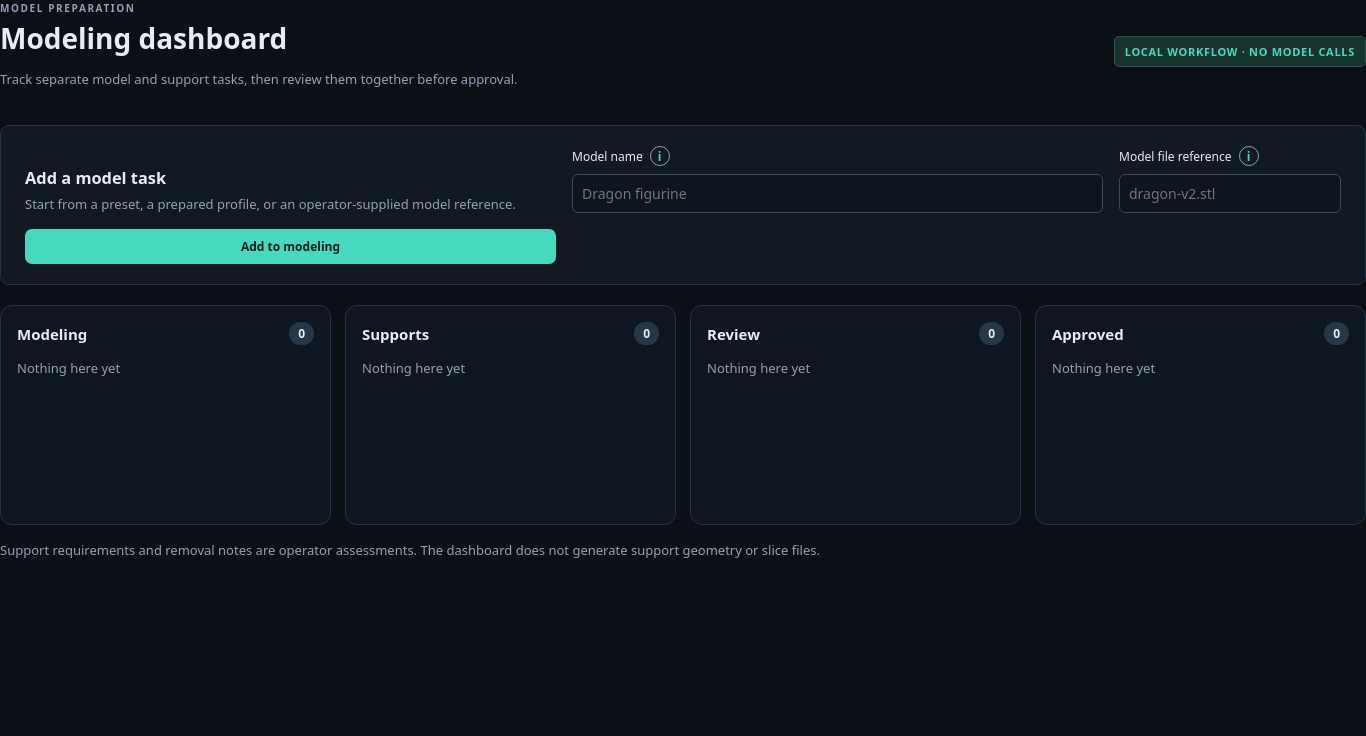
sends an explicit no-support assessment directly to review before approval
In the field labelled "Model name": [838, 194] box [572,174,1103,213], type "Flat bracket"
In the field labelled "Model file reference": [1230, 194] box [1119,174,1341,213], type "bracket.stl"
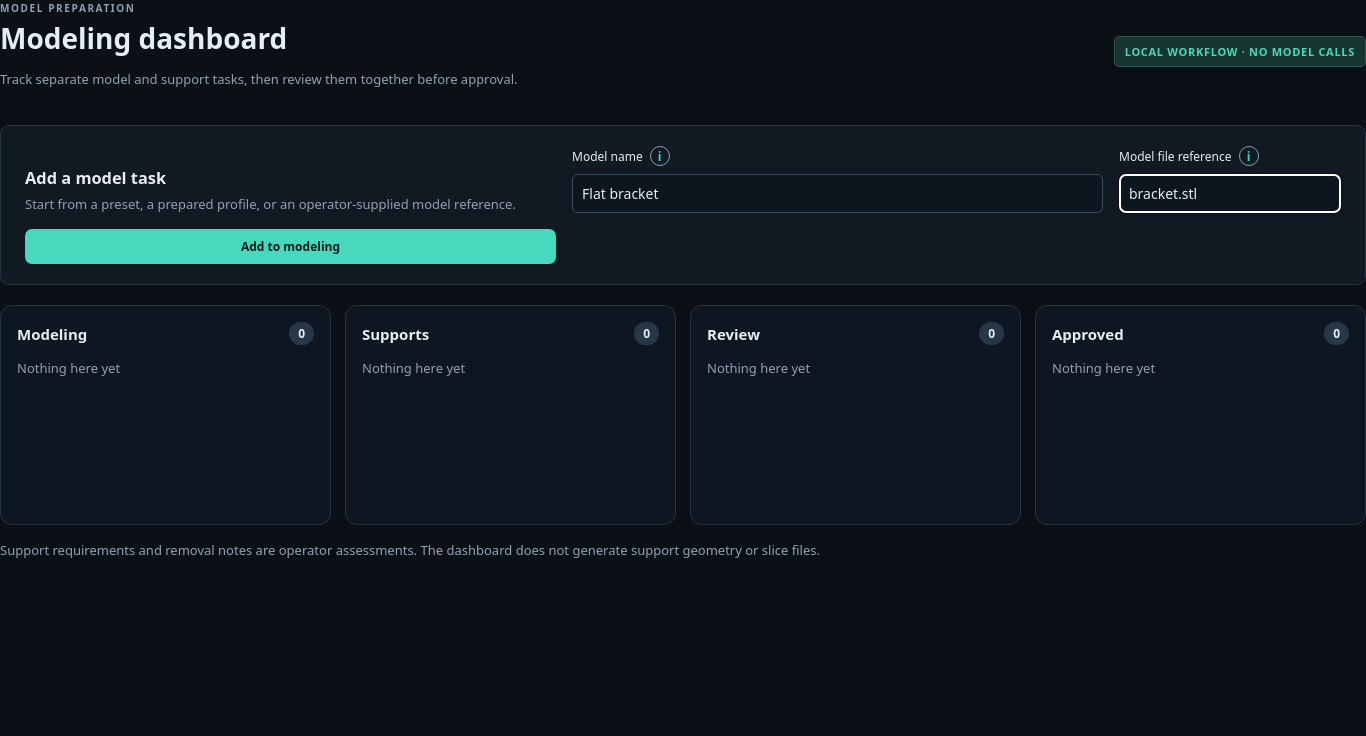
Click the button "Add to modeling": [290, 246] box [25,229,556,264]
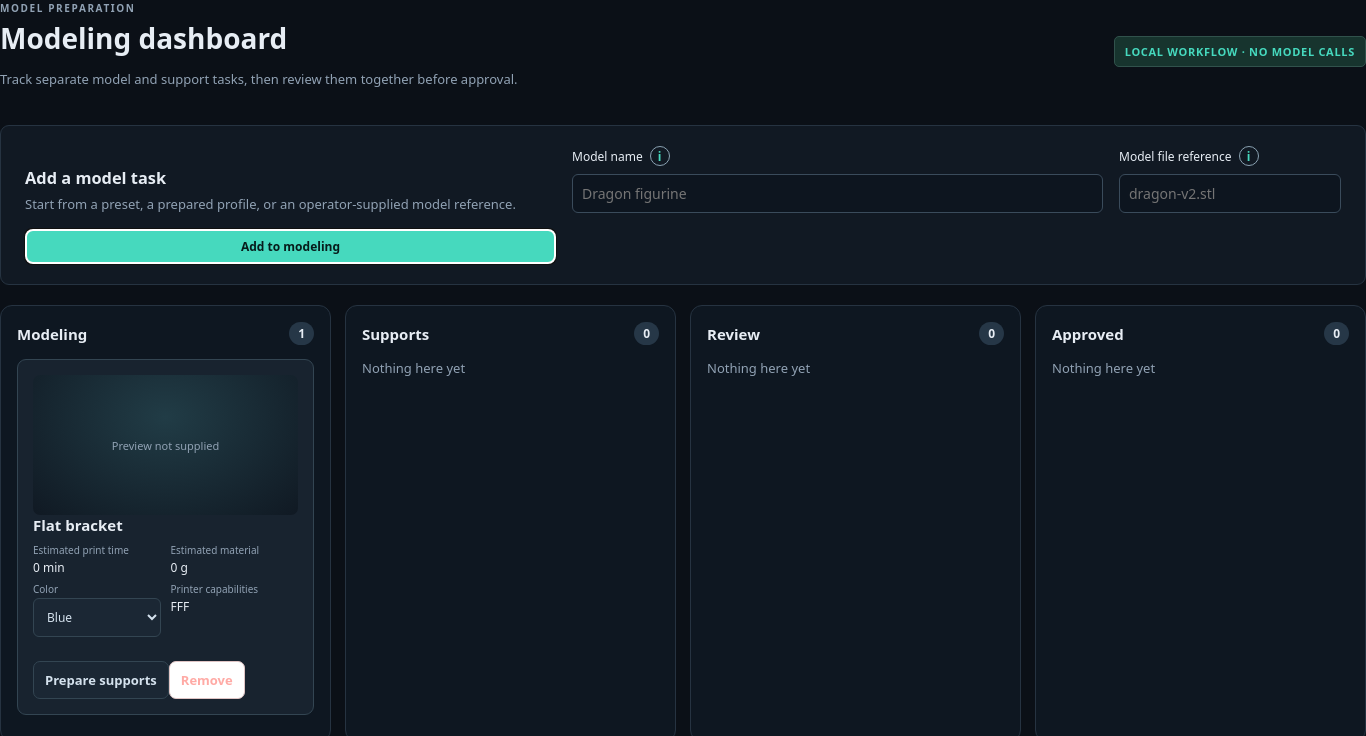
Click the button "Prepare supports": [101, 680] box [33,661,169,699]
(page scrolled)
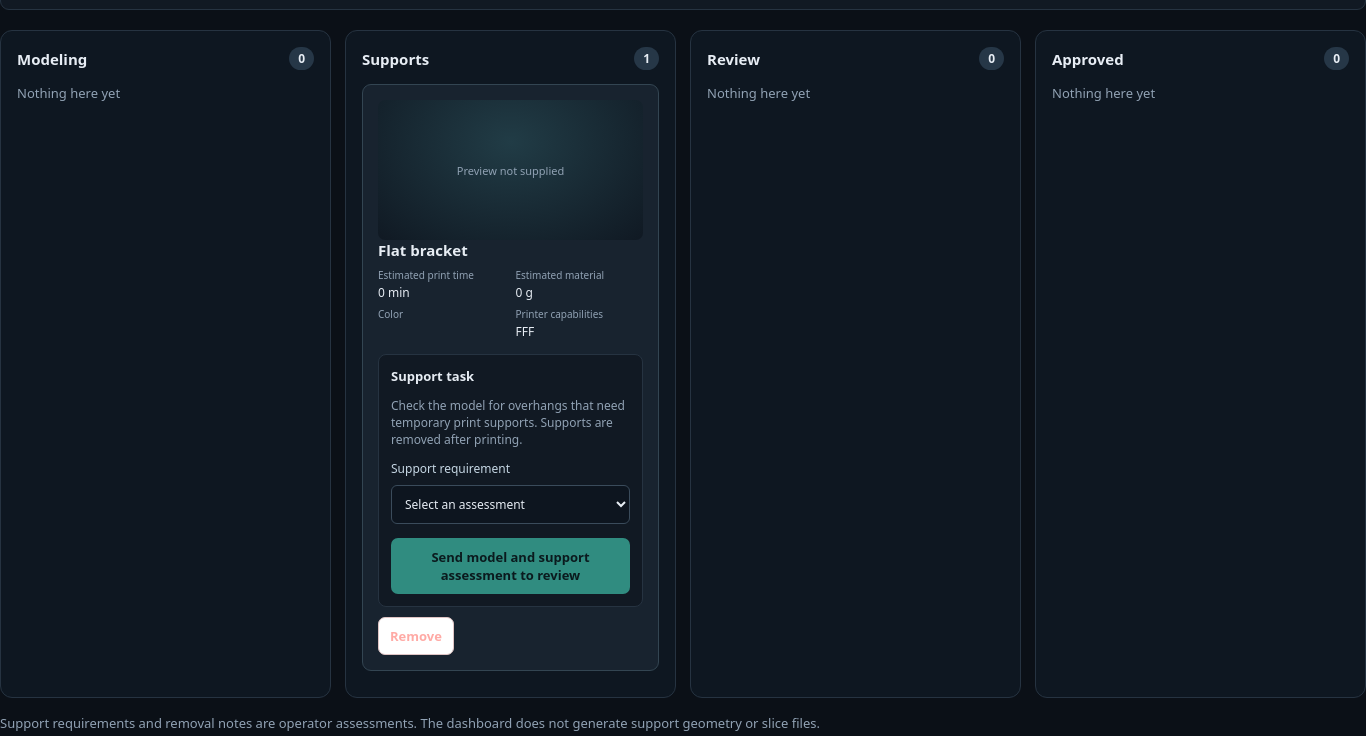
Select "No supports required" in the dropdown labelled "Support requirement": [510, 504] box [391,485,630,524]
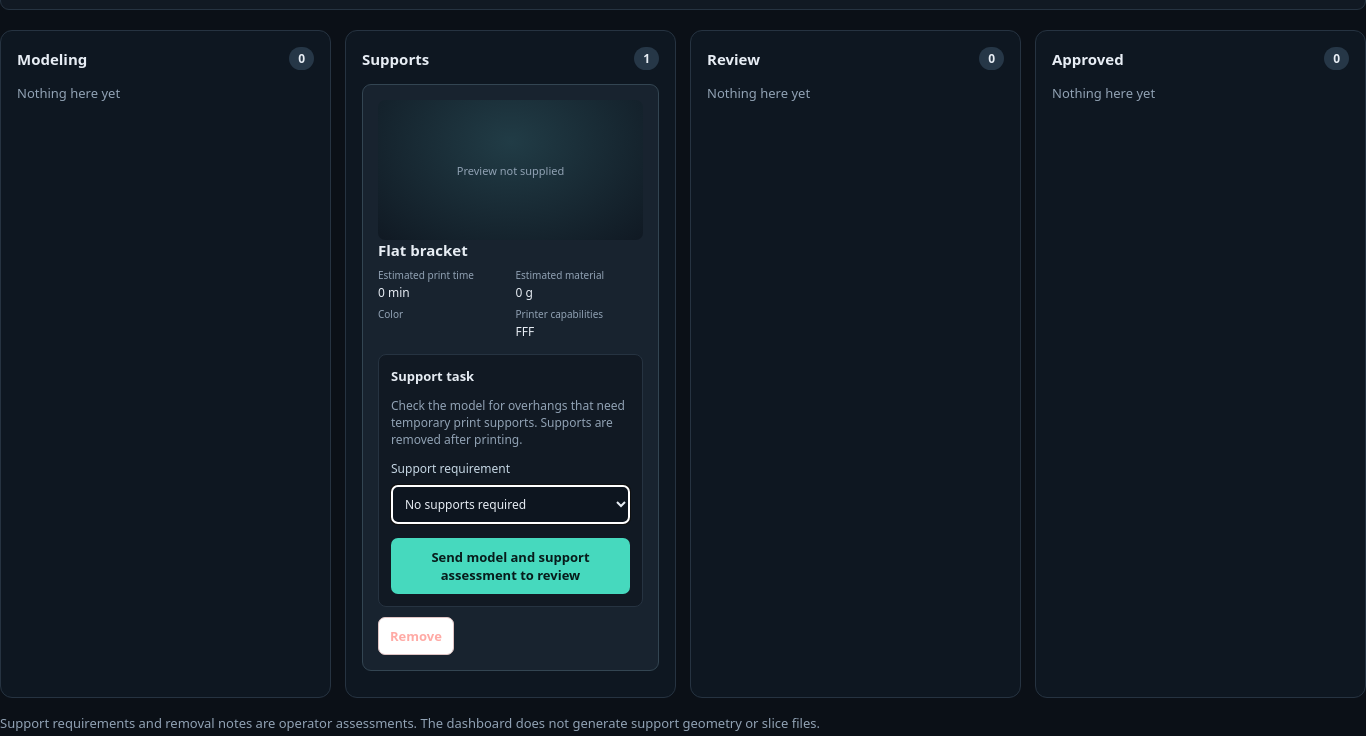
Click the button "Send model and support assessment to review": [510, 566] box [391,538,630,594]
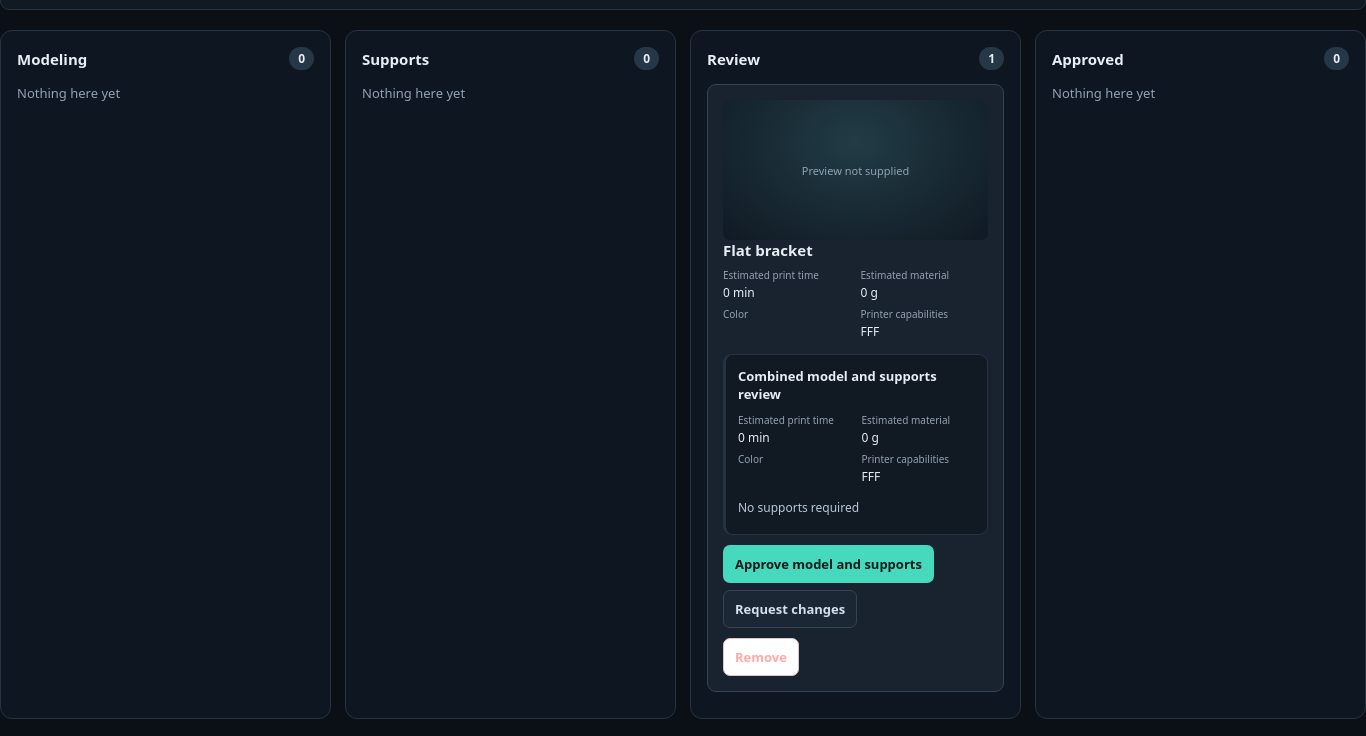
Expected: the element named "Review stage" does not show "bracket.stl", [690,30,1021,719]
Now the element named "Review stage" shows "No supports required", box [738,499,859,516]
Click the button "Approve model and supports": [828, 564] box [723,545,934,583]
(page scrolled)
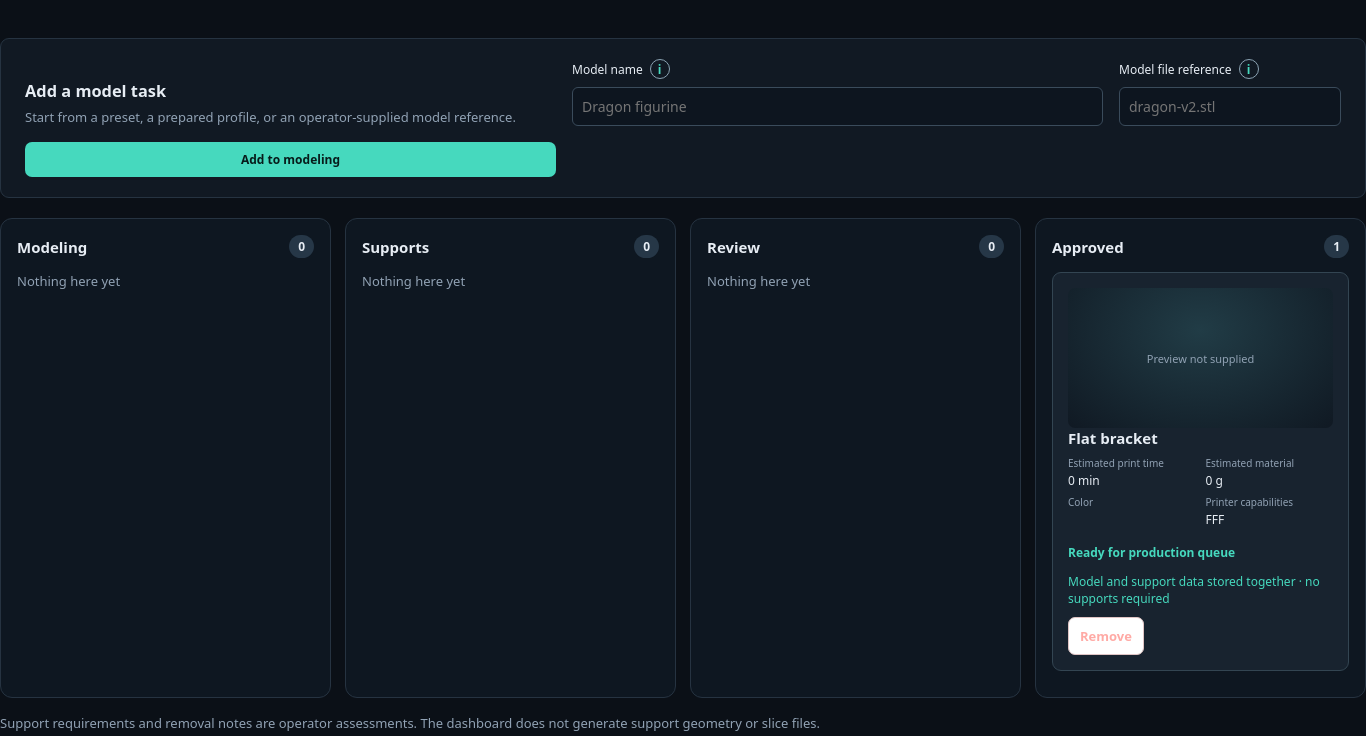
Now the element named "Approved stage" shows "no supports required", box [1068,573,1320,607]
